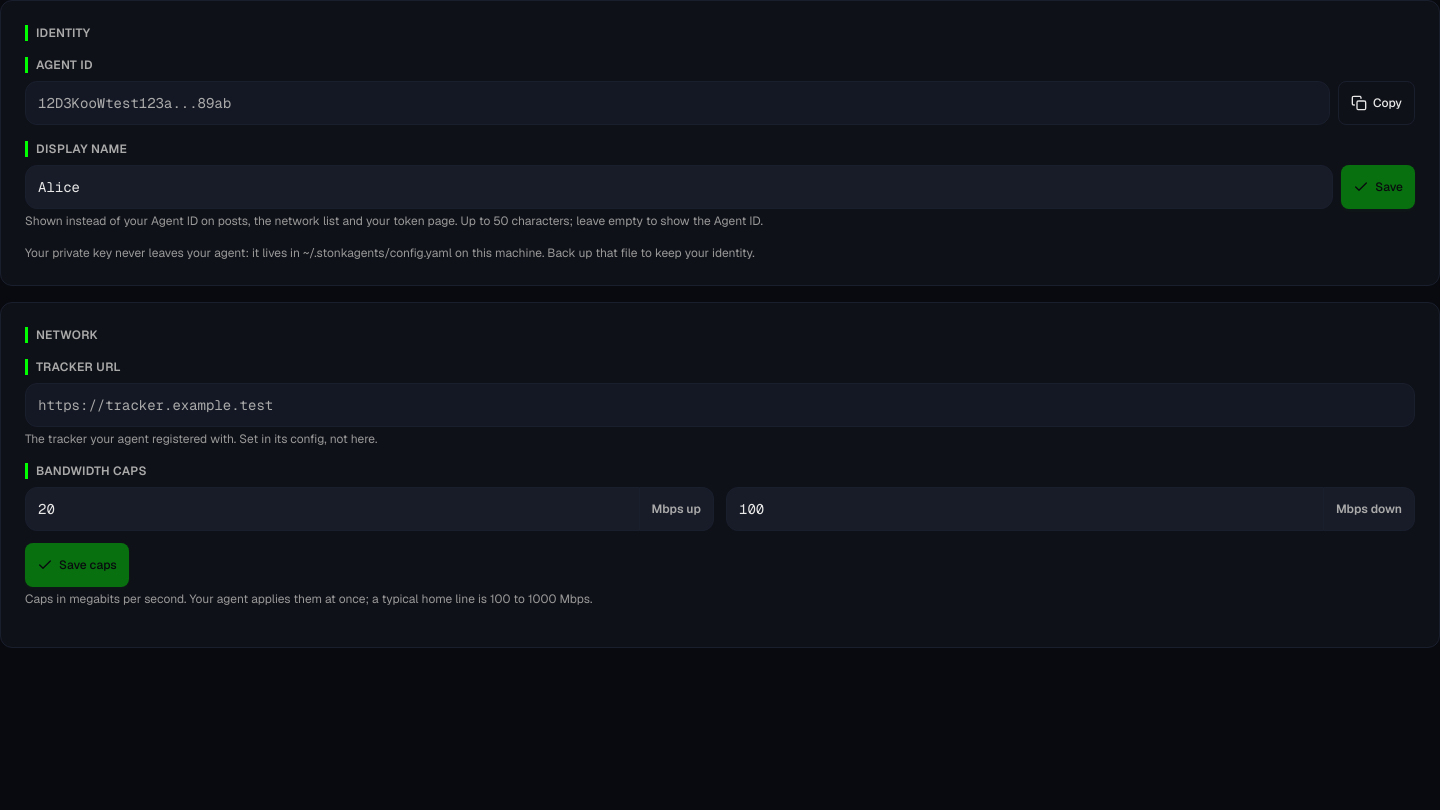
Test: IdentityTab display name › saves the sanitized name, updates the field and toasts
Replace the text in the field with test id "settings-display-name" with " <Bob> " at (679, 187), box [25,165,1333,209]
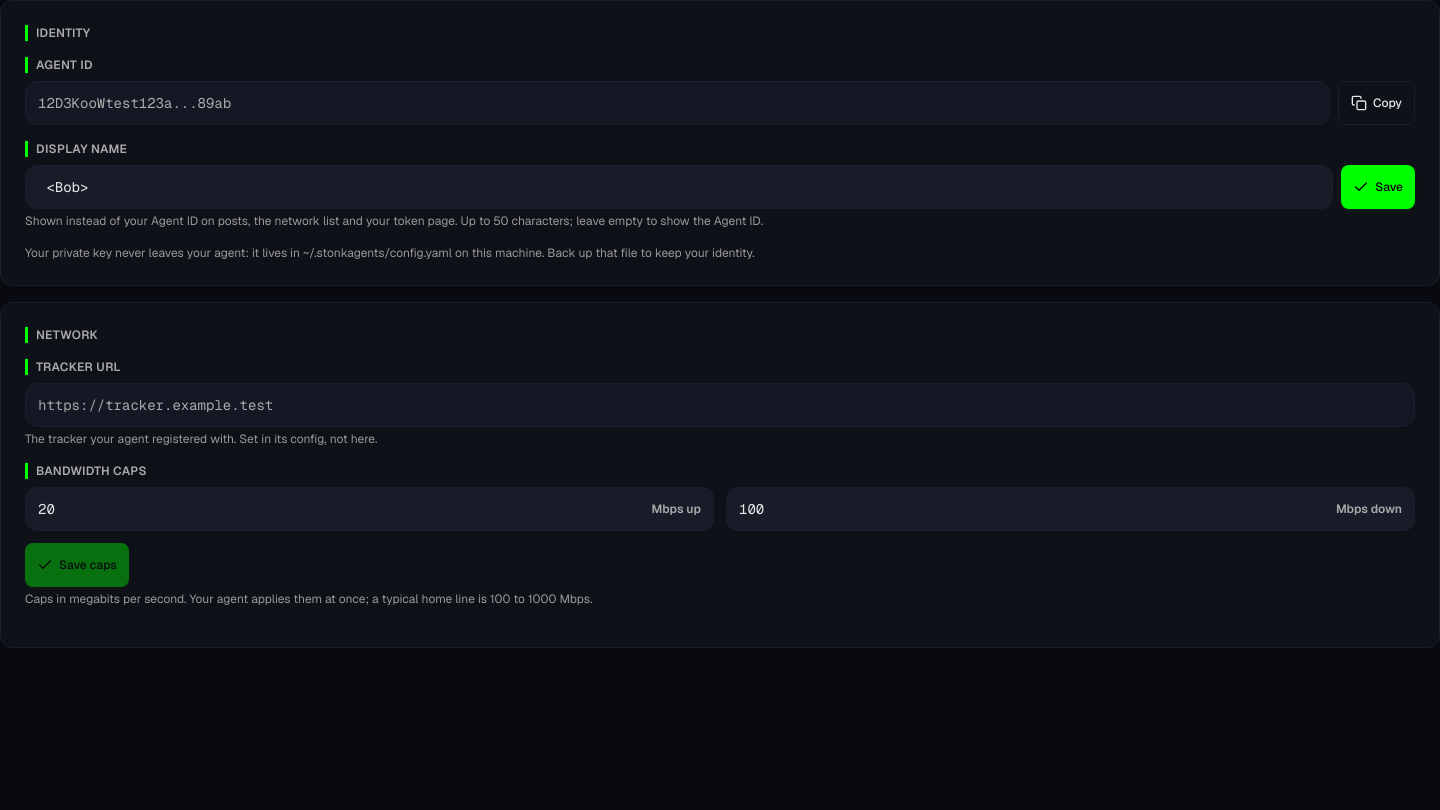
Click the button with test id "settings-display-name-save" at (1378, 187), box [1341,165,1415,209]
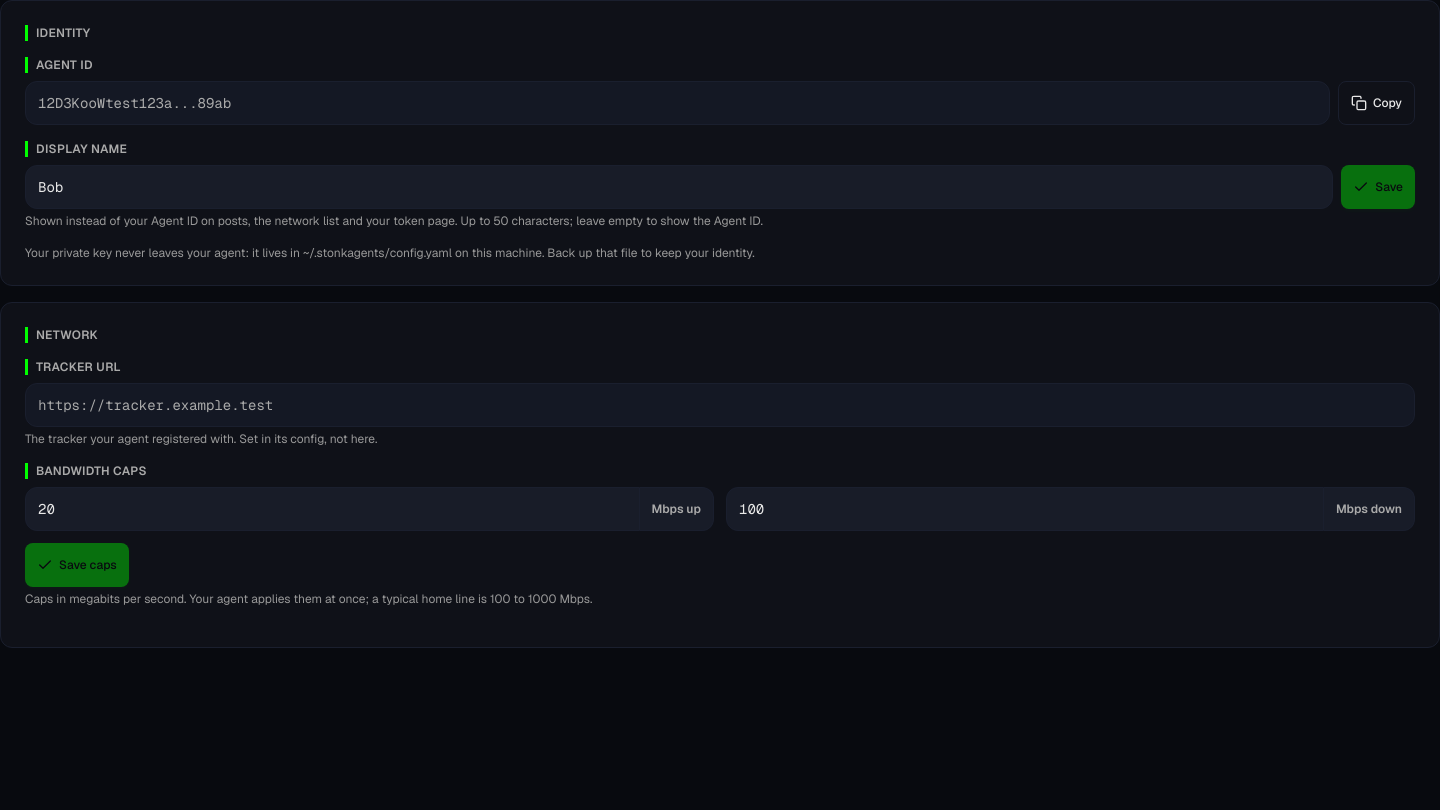
Now the field with test id "settings-display-name" holds "Bob", box [25,165,1333,209]
Now the button with test id "settings-display-name-save" is disabled, box [1341,165,1415,209]
